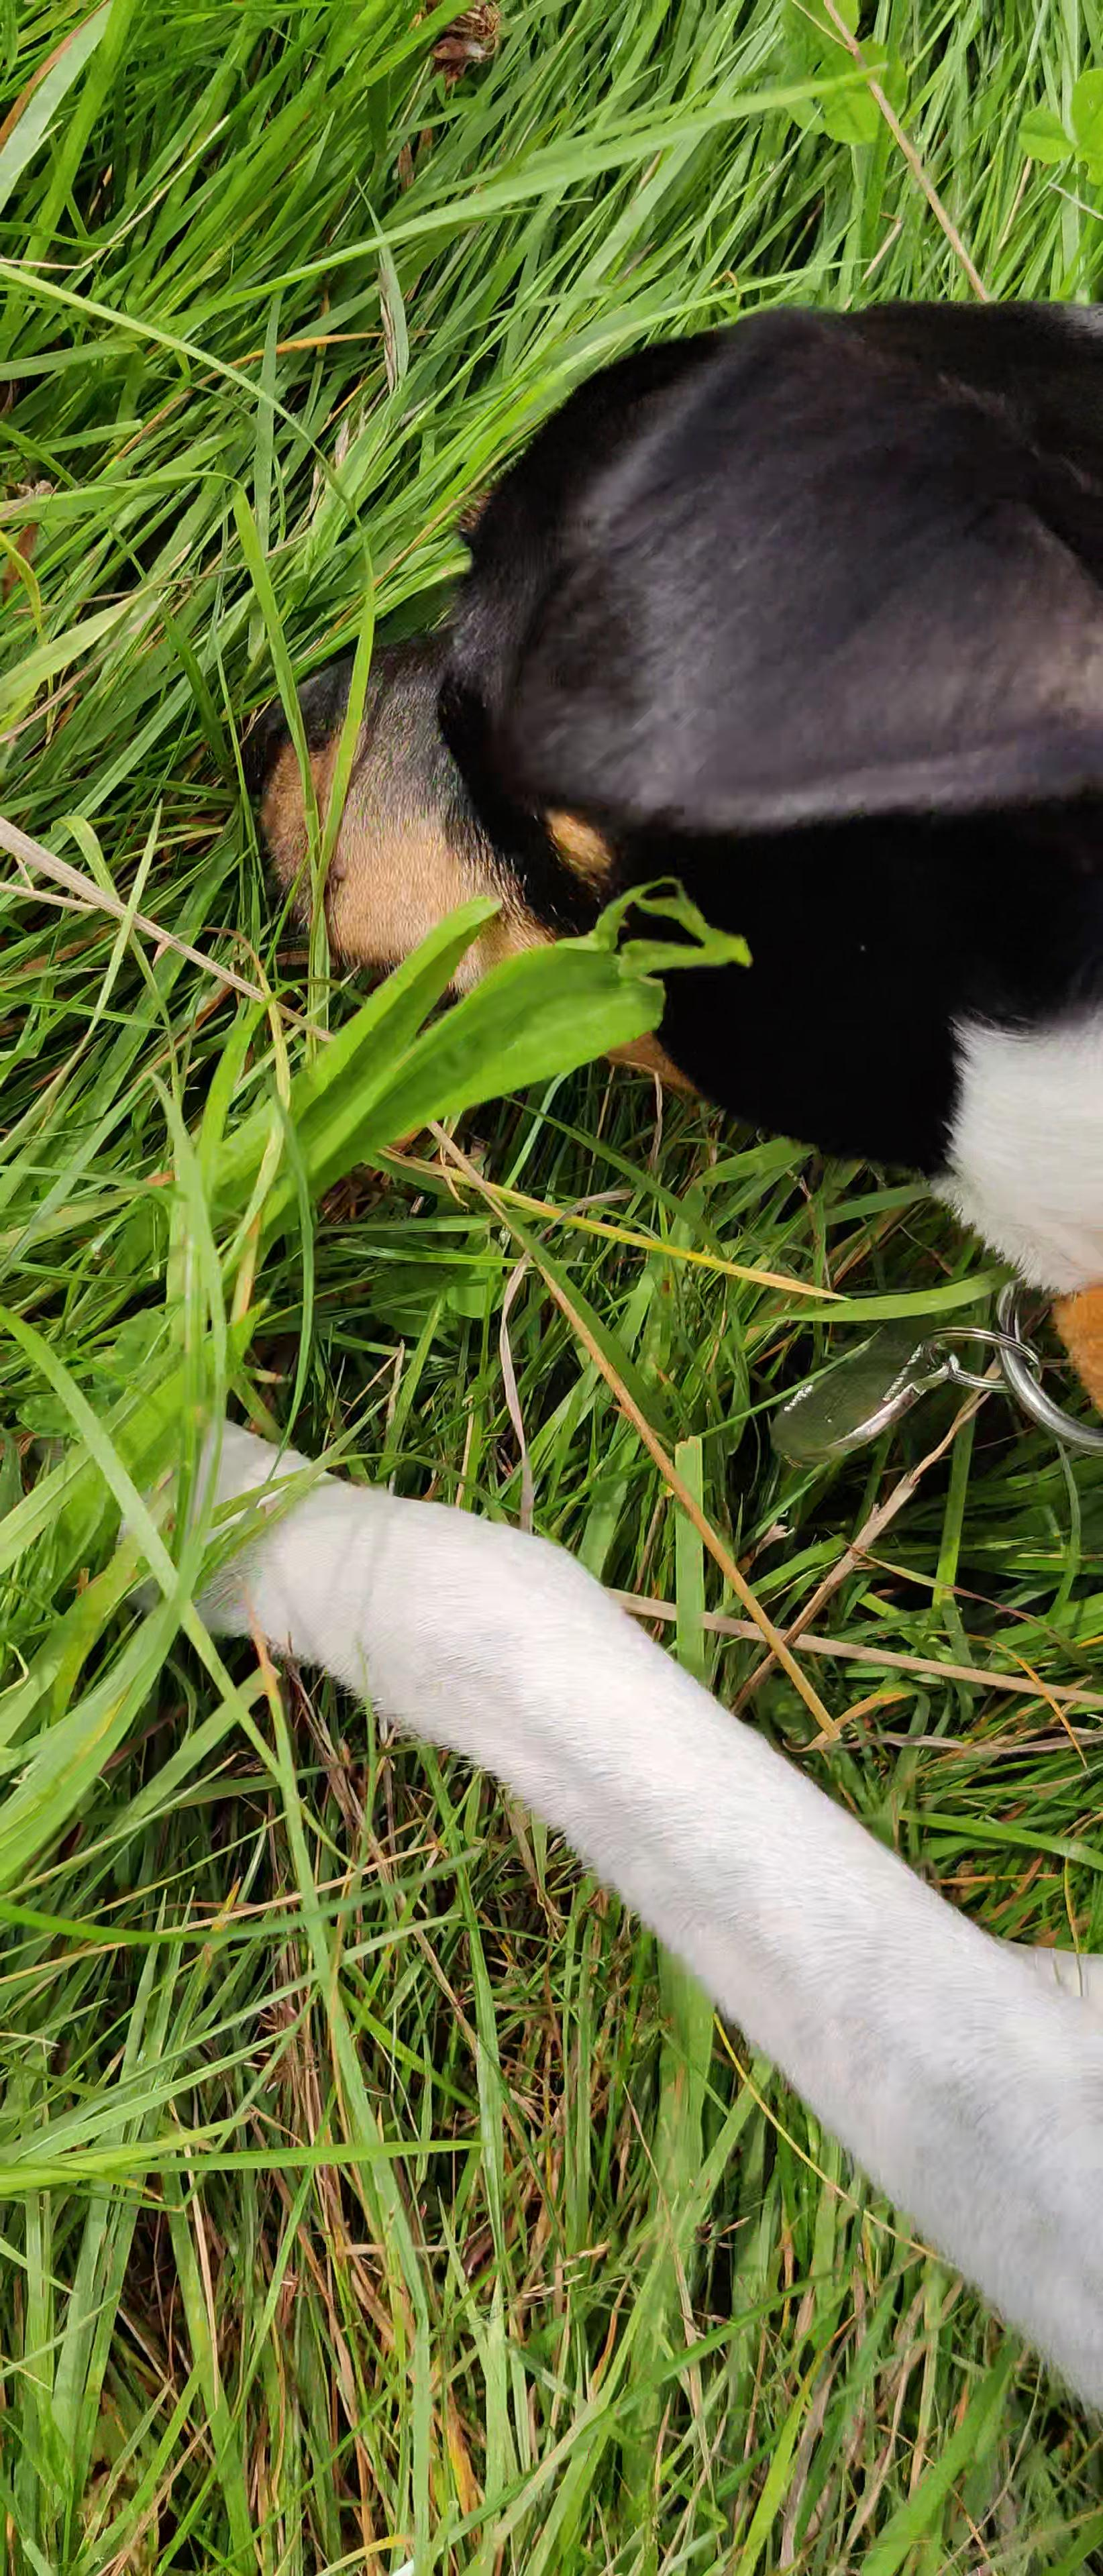Dog: (168, 291, 1103, 2445)
